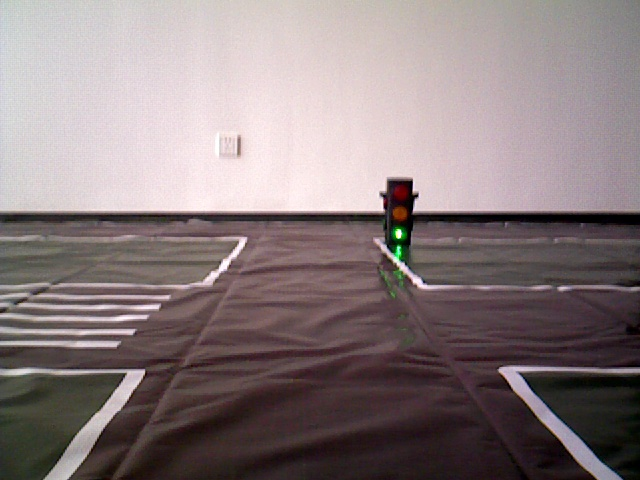green: (385, 180, 411, 242)
